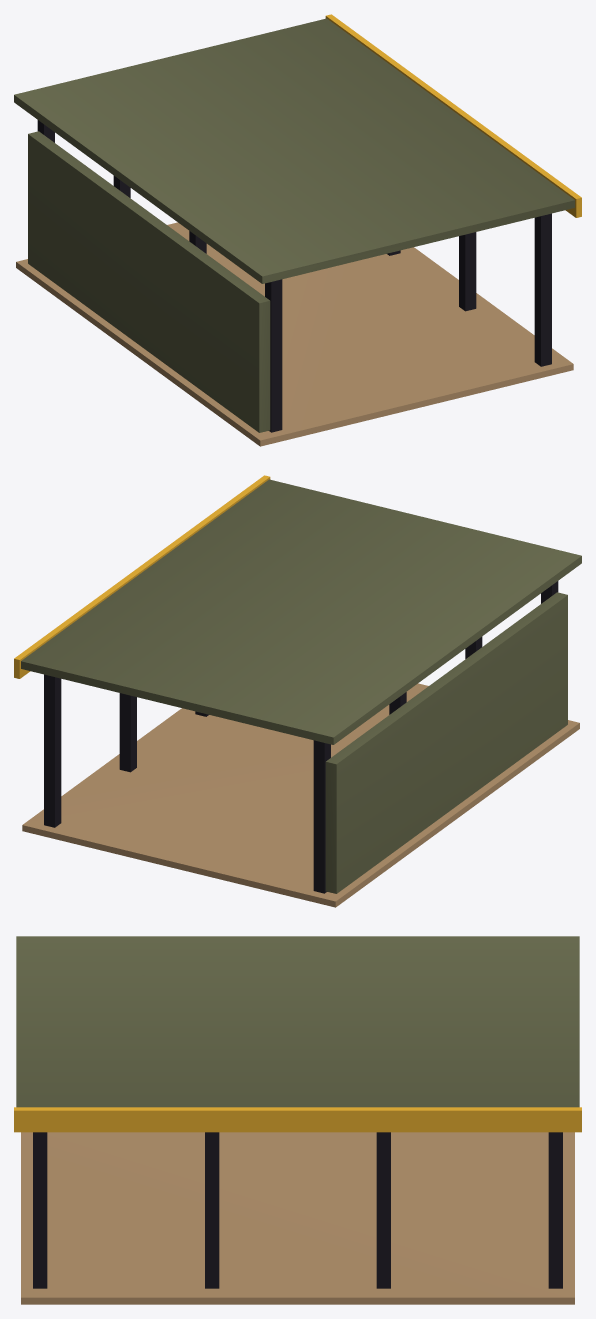
File: bld.cure-motor-shelter.lod2.glb
3 renders of one model, top to bottom at view 1: azimuth 30°, elevation 25°; view 2: azimuth 150°, elevation 25°; view 3: azimuth 270°, elevation 25°, orthographic. The views are drawn at different scales.
Visible parts, largest first — view 1: body; view 2: body; view 3: body.
Part boxes in pixels (box(x1,y1,x2,y2)): body: box(14, 14, 581, 446); body: box(14, 475, 581, 907); body: box(14, 936, 581, 1304).
Size of the model in its own units: 8.74 by 4.55 by 11.9.
